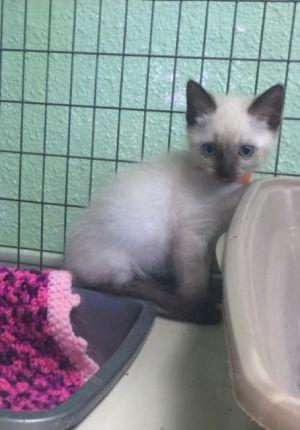siamese: (180, 73, 291, 190)
